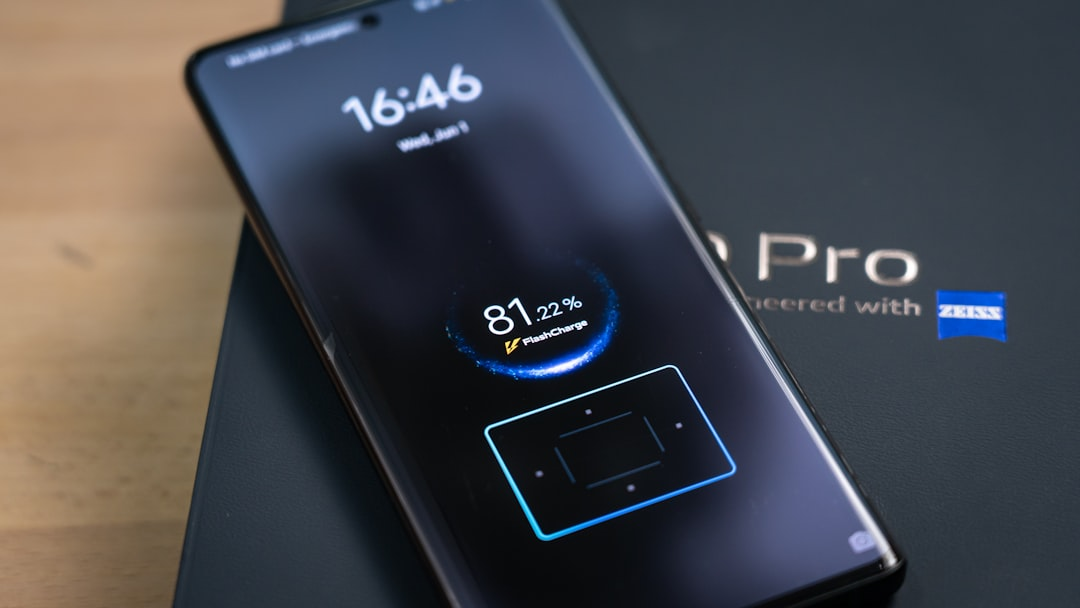phone: (180, 4, 908, 603)
